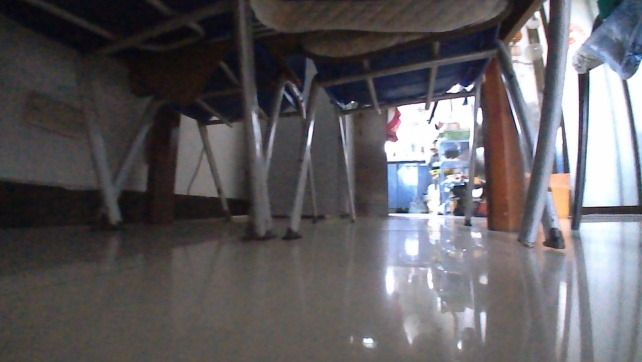cupboard: (385, 155, 430, 213)
dining_table1: (0, 0, 576, 256)
